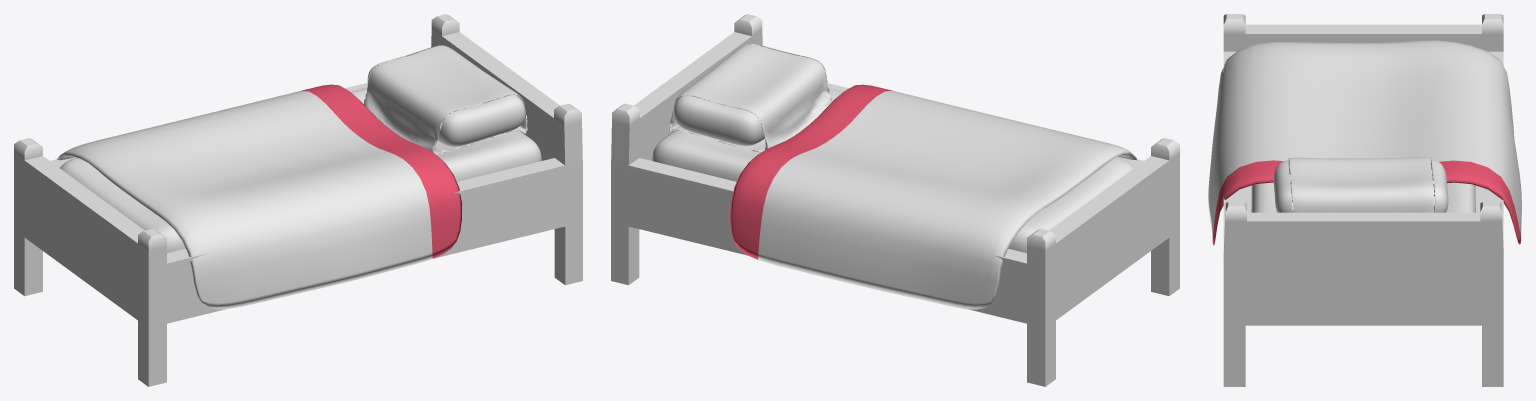
The model's file is Lit.fbx.
3 views of the same model, side by side, from view 1: azimuth 30°, elevation 25°; view 2: azimuth 150°, elevation 25°; view 3: azimuth 270°, elevation 25° (orthographic). The views are drawn at different scales.
Visible parts, largest first — view 1: Plane.001, Cube, Cube.004, Cube.001, Cube.003; view 2: Plane.001, Cube, Cube.004, Cube.001, Cube.003; view 3: Cube, Plane.001, Cube.004, Cube.001, Cube.003.
Part boxes in pixels (x1,y1,x2,y2): Plane.001: [57, 84, 461, 309]; Cube: [14, 14, 582, 386]; Cube.004: [363, 45, 527, 154]; Cube.001: [60, 88, 541, 253]; Cube.003: [367, 48, 525, 146]; Plane.001: [730, 84, 1136, 309]; Cube: [611, 14, 1179, 386]; Cube.004: [668, 44, 832, 152]; Cube.001: [652, 88, 1133, 253]; Cube.003: [673, 45, 825, 145]; Cube: [1223, 14, 1503, 386]; Plane.001: [1208, 40, 1521, 245]; Cube.004: [1287, 157, 1435, 212]; Cube.001: [1251, 182, 1475, 212]; Cube.003: [1273, 159, 1448, 212].
Bounding box in the file's own units: 979 × 372 × 588.
